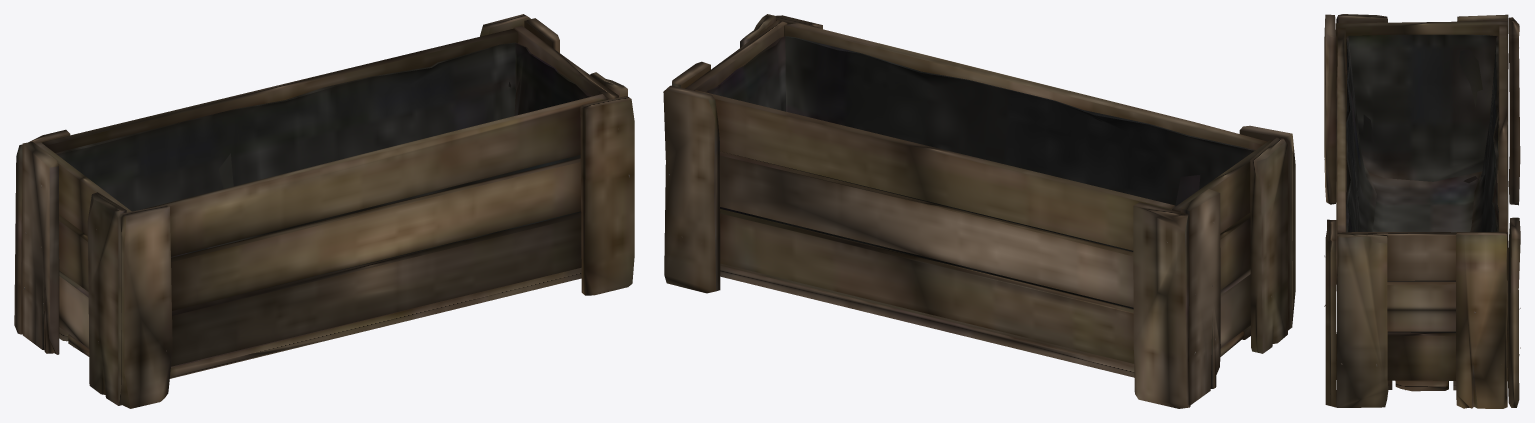
File: planter-box-02.lite.55f2f51e.glb
3 views of the same model, side by side, from view 1: azimuth 30°, elevation 25°; view 2: azimuth 150°, elevation 25°; view 3: azimuth 270°, elevation 25° (orthographic). The views are drawn at different scales.
Visible parts, largest first — view 1: model; view 2: model; view 3: model.
Boxes of the visible parts, <box> form: model: <box>14,14,634,408</box>; model: <box>663,14,1295,408</box>; model: <box>1324,14,1520,408</box>.
Size of the model in its own units: 1.25 by 0.4516 by 0.4625.
Materials: 1 (1 with a texture image).
